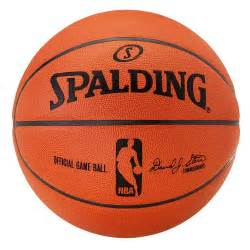basketball: (11, 8, 242, 241)
